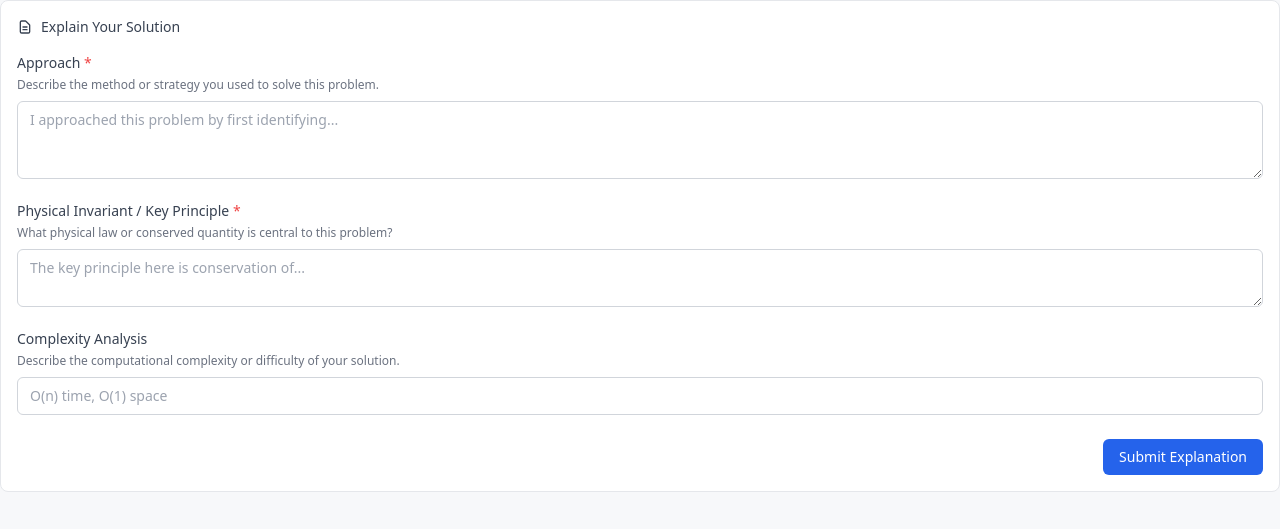
ExplanationForm › should show validation error for short required fields
The width and height of the screenshot is (1280, 529).
# Enter short text and blur
Type "short" into the text box labelled "Approach *" at (640, 140), box [17, 101, 1263, 179]
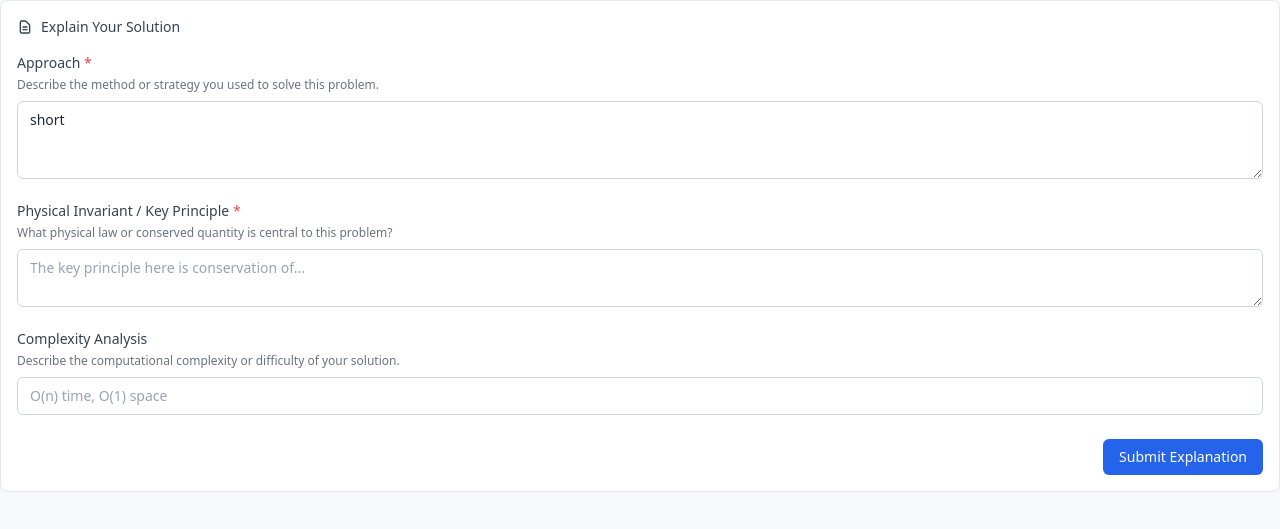
Leave the text box labelled "Approach *", box [17, 101, 1263, 179]
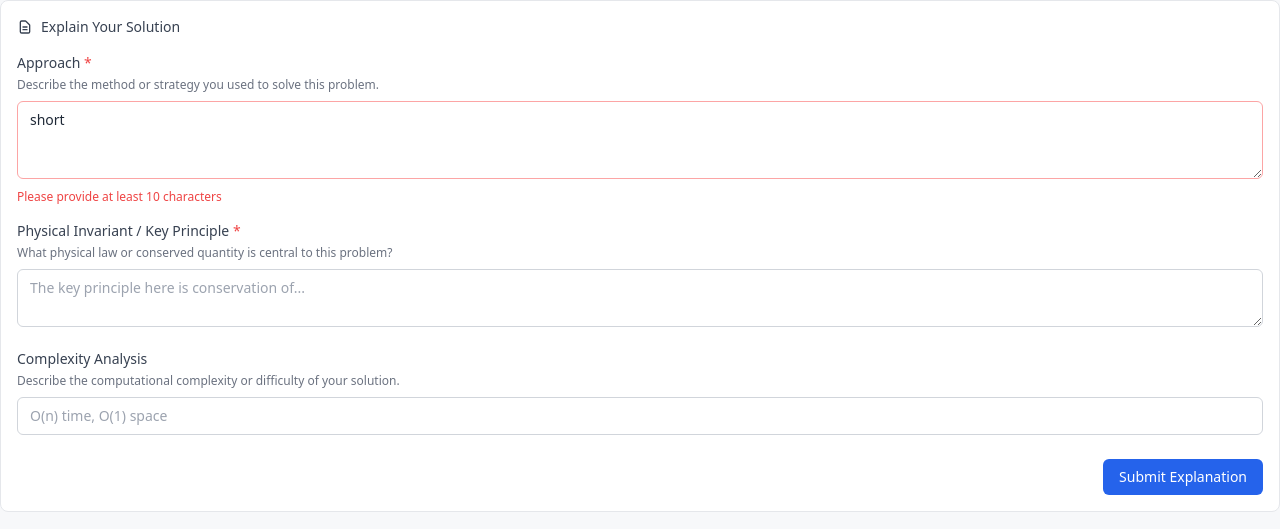
Check: the text "Please provide at least 10 characters" is shown, box [17, 188, 222, 205]
